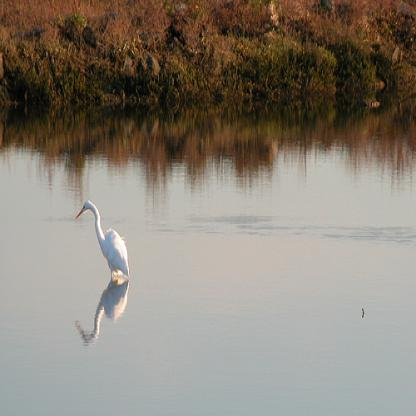bird: (73, 195, 131, 278)
